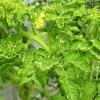Tomato leaf yellow virus: (57, 65, 81, 99), (27, 48, 60, 72), (61, 37, 95, 59), (67, 51, 94, 76), (41, 13, 71, 34), (33, 68, 51, 90), (24, 4, 39, 24), (70, 8, 89, 22), (0, 42, 14, 59), (5, 12, 15, 29), (51, 39, 64, 51), (16, 12, 27, 26)
